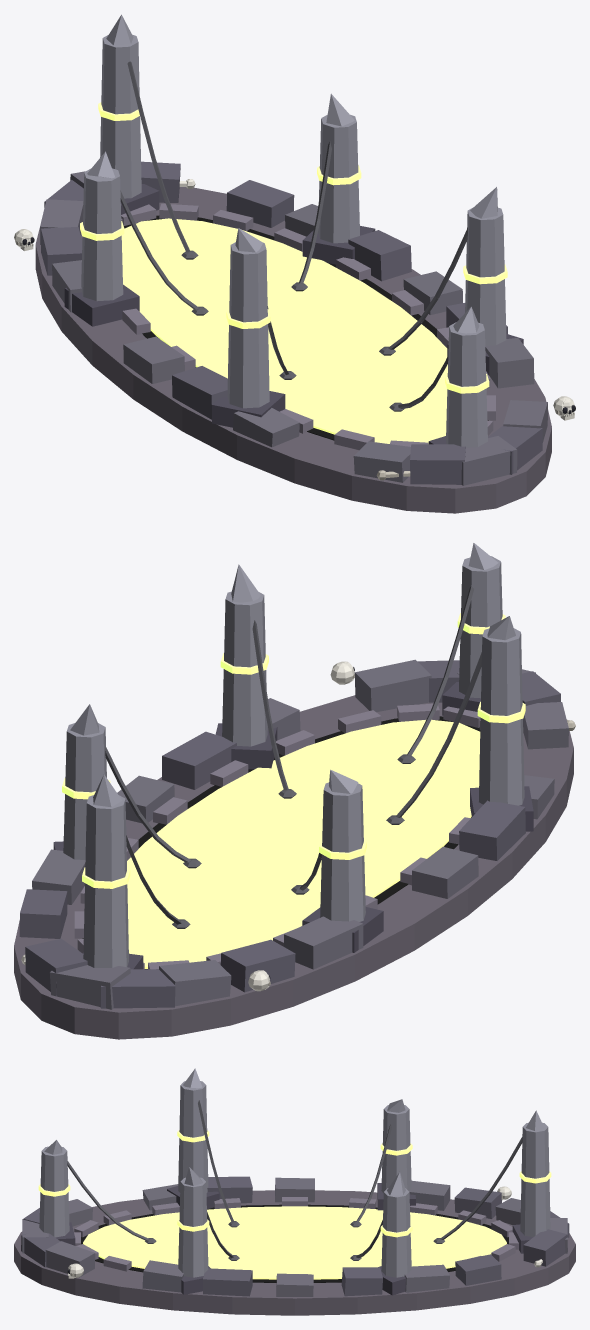
Rendered from pool_island.glb.
3 renders of one model, top to bottom at view 1: azimuth 30°, elevation 25°; view 2: azimuth 150°, elevation 25°; view 3: azimuth 270°, elevation 25°, orthographic. The views are drawn at different scales.
Visible parts, largest first — view 1: pool_island; view 2: pool_island; view 3: pool_island.
Part boxes in pixels (<box>): pool_island: <box>14,14,575,513</box>; pool_island: <box>14,543,575,1039</box>; pool_island: <box>14,1068,575,1315</box>.
Bounding box in the file's own units: 5.4 × 3.52 × 11.8.
